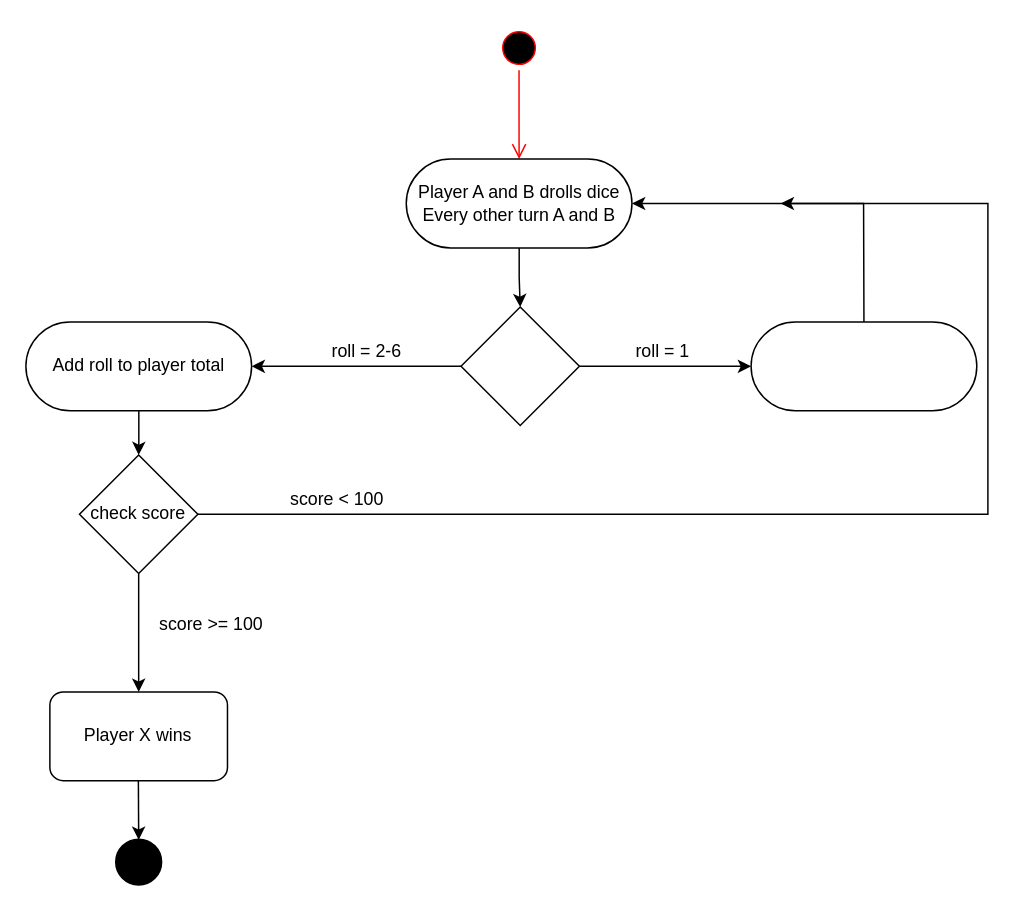
The diagram is 1026 pixels wide and 912 high, and some of its shapes have lost their labels. The centre of each missing label's shape, as x and y in pixels:
"check roll" belongs at point 519,366.
"Reset total Score X = 0" belongs at point 863,365.
